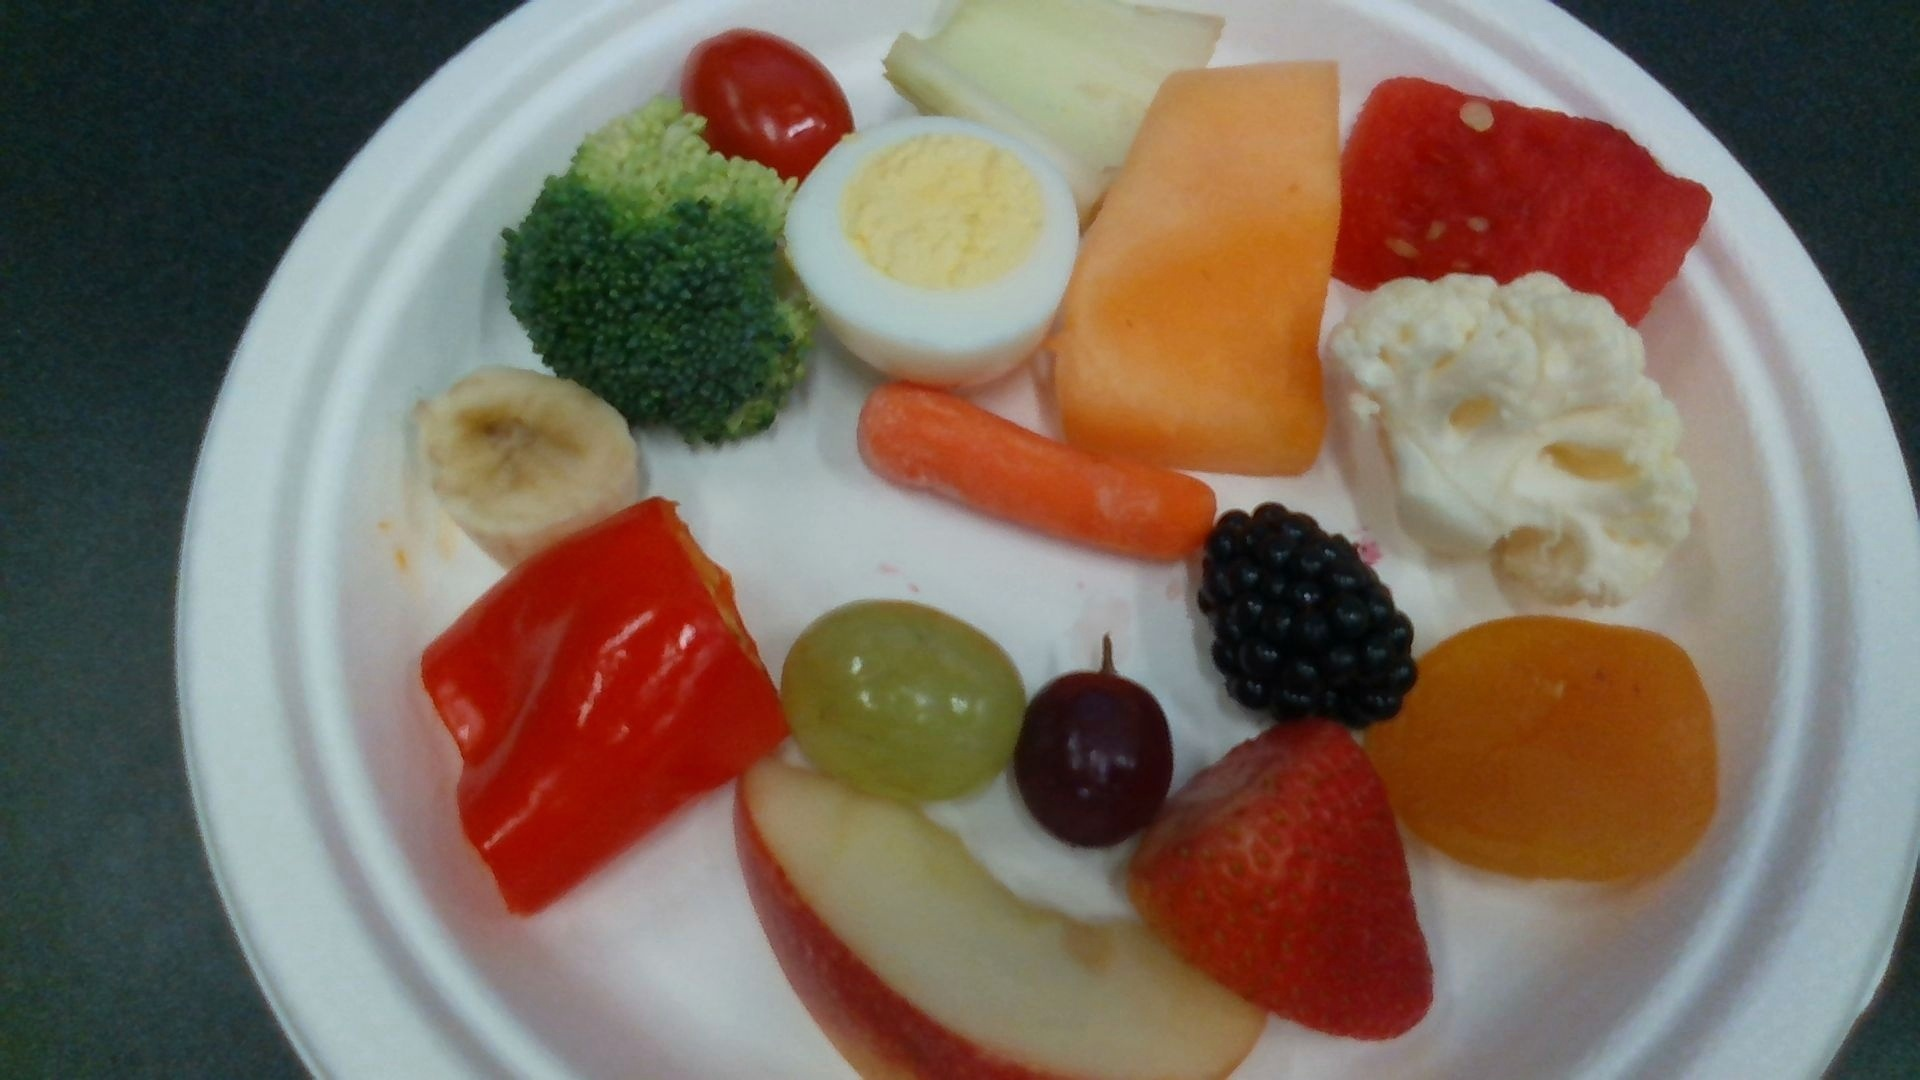apple: (737, 760, 1266, 1080)
apricot: (1369, 615, 1720, 884)
banana: (419, 371, 636, 560)
bell_pepper: (425, 505, 782, 911)
blackberry: (1205, 505, 1415, 731)
broccoli: (502, 105, 808, 435)
cantalope: (1055, 66, 1338, 469)
carrot: (857, 381, 1215, 558)
cauliflower: (1335, 270, 1692, 608)
celery: (886, 1, 1218, 220)
cherry_tomato: (684, 30, 855, 179)
egg: (785, 120, 1075, 380)
grape_green: (781, 600, 1025, 796)
grape_purple: (1017, 671, 1174, 848)
melon: (1332, 80, 1710, 320)
strawberry: (1127, 723, 1429, 1040)
